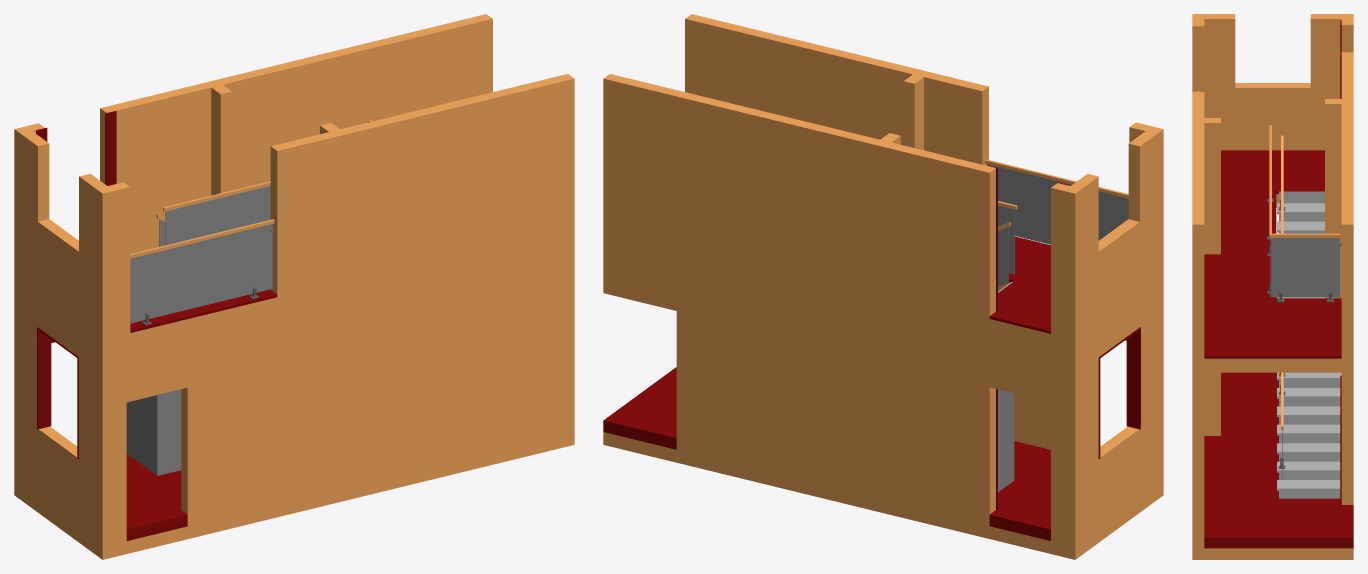
The model's file is лестница1маршевая.obj.
The picture shows the model from 3 angles, left to right: view 1: azimuth 30°, elevation 25°; view 2: azimuth 150°, elevation 25°; view 3: azimuth 270°, elevation 25°; orthographic projection. The views are drawn at different scales.
Bounding box in the file's own units: 7.7 × 5.7 × 2.49.
